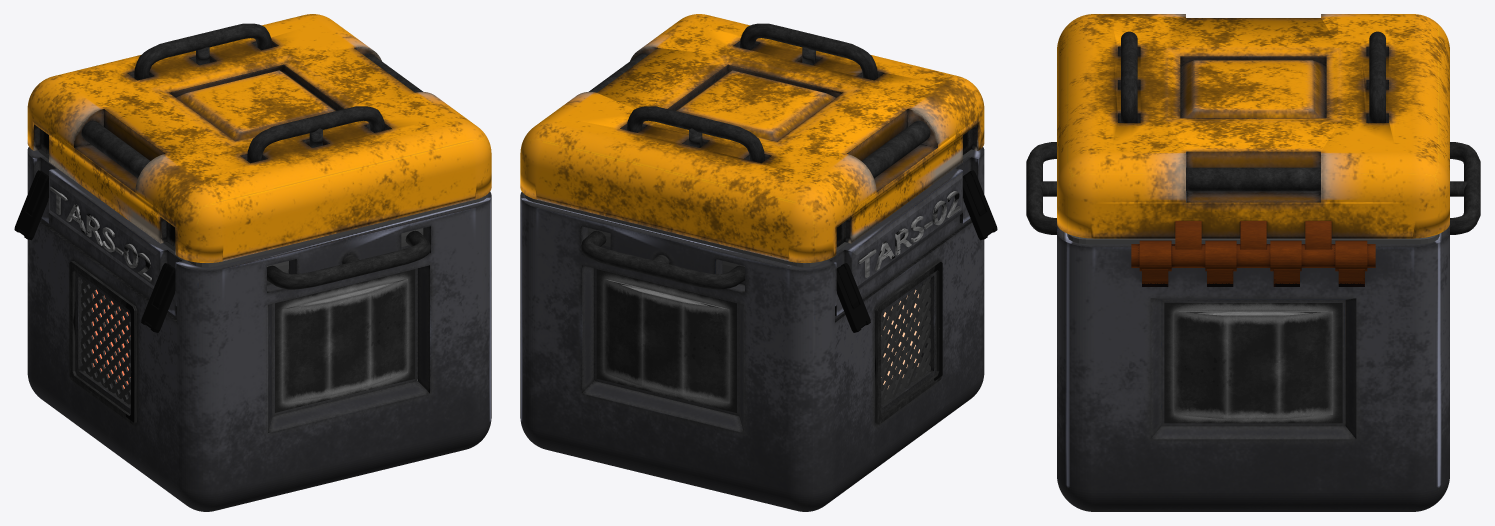
Rendered from sci-fi_crate.glb.
The picture shows the model from 3 angles, left to right: view 1: azimuth 30°, elevation 25°; view 2: azimuth 150°, elevation 25°; view 3: azimuth 270°, elevation 25°; orthographic projection. The views are drawn at different scales.
Parts seen in each view (by area): view 1: Cube, Cylinder.001, Cylinder.003; view 2: Cube, Cylinder.001, Cylinder.003; view 3: Cube, Cylinder.001.
Part boxes in pixels (x1,y1,x2,y2): Cube: [27, 147, 491, 511]; Cylinder.001: [27, 14, 491, 262]; Cylinder.003: [14, 170, 175, 332]; Cube: [520, 147, 984, 511]; Cylinder.001: [520, 14, 984, 262]; Cylinder.003: [836, 170, 997, 332]; Cube: [1026, 142, 1480, 511]; Cylinder.001: [1057, 14, 1449, 267].
Size of the model in its own units: 2.29 by 2.16 by 2.31.
11 materials, 7 textured.
